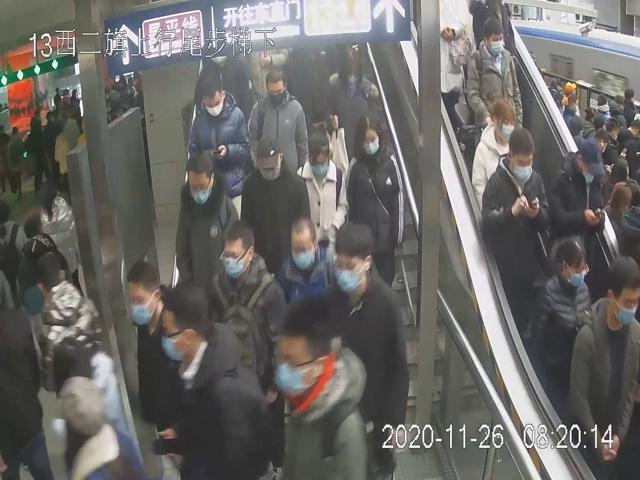person: (327, 216, 409, 476), (161, 281, 264, 480), (205, 216, 288, 412), (568, 254, 640, 464), (481, 126, 551, 301), (345, 108, 406, 279), (242, 138, 313, 273), (173, 148, 242, 281), (531, 235, 588, 393), (248, 66, 308, 197), (189, 67, 245, 204), (464, 16, 522, 142), (293, 126, 349, 256), (322, 43, 382, 156), (277, 208, 333, 316)
